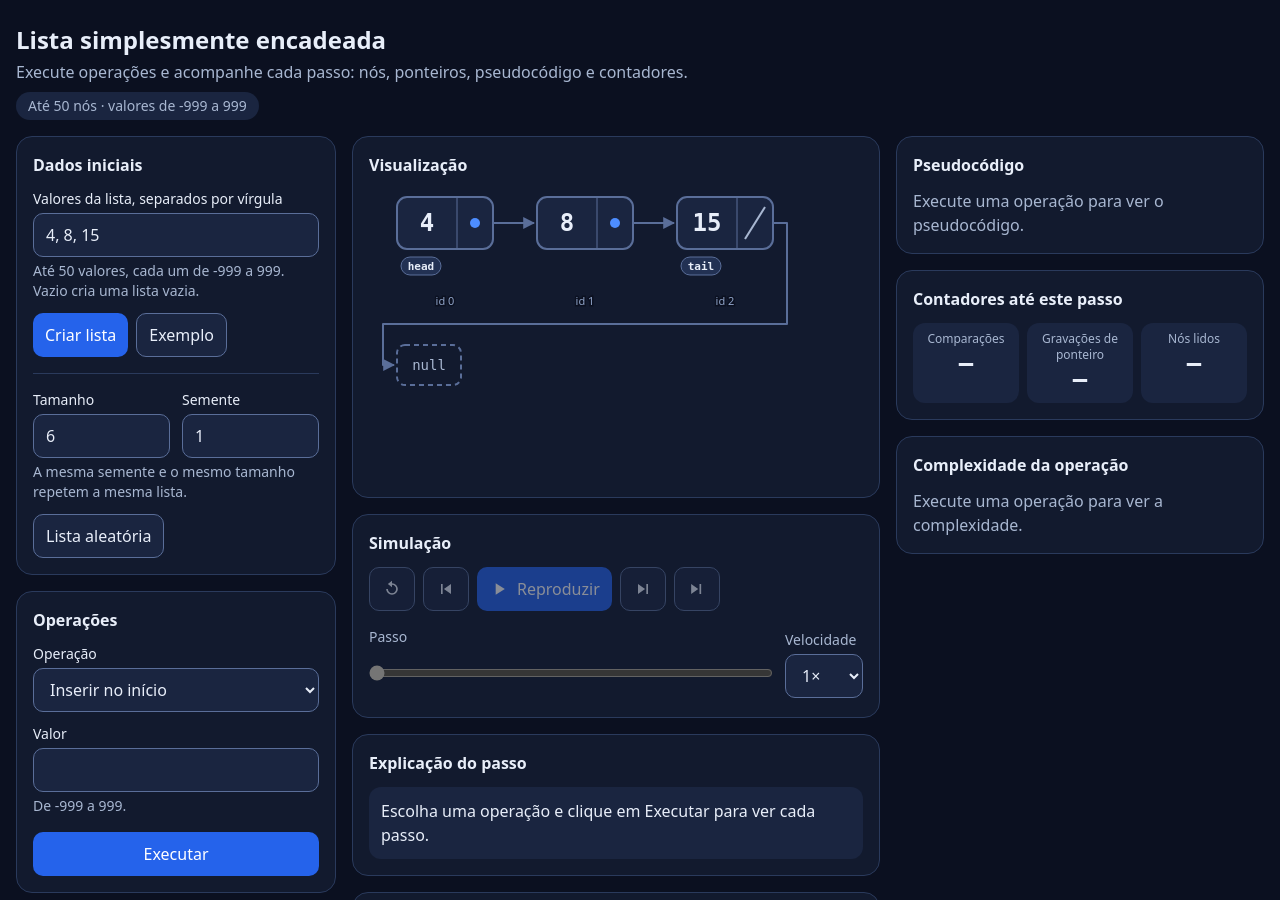
Scenario: tratamento de erros › campo vazio: a Engine pede o valor e o erro aparece no campo
The width and height of the screenshot is (1280, 900).
Click the button "Executar" at coordinates (176, 854), box [33,832,319,876]
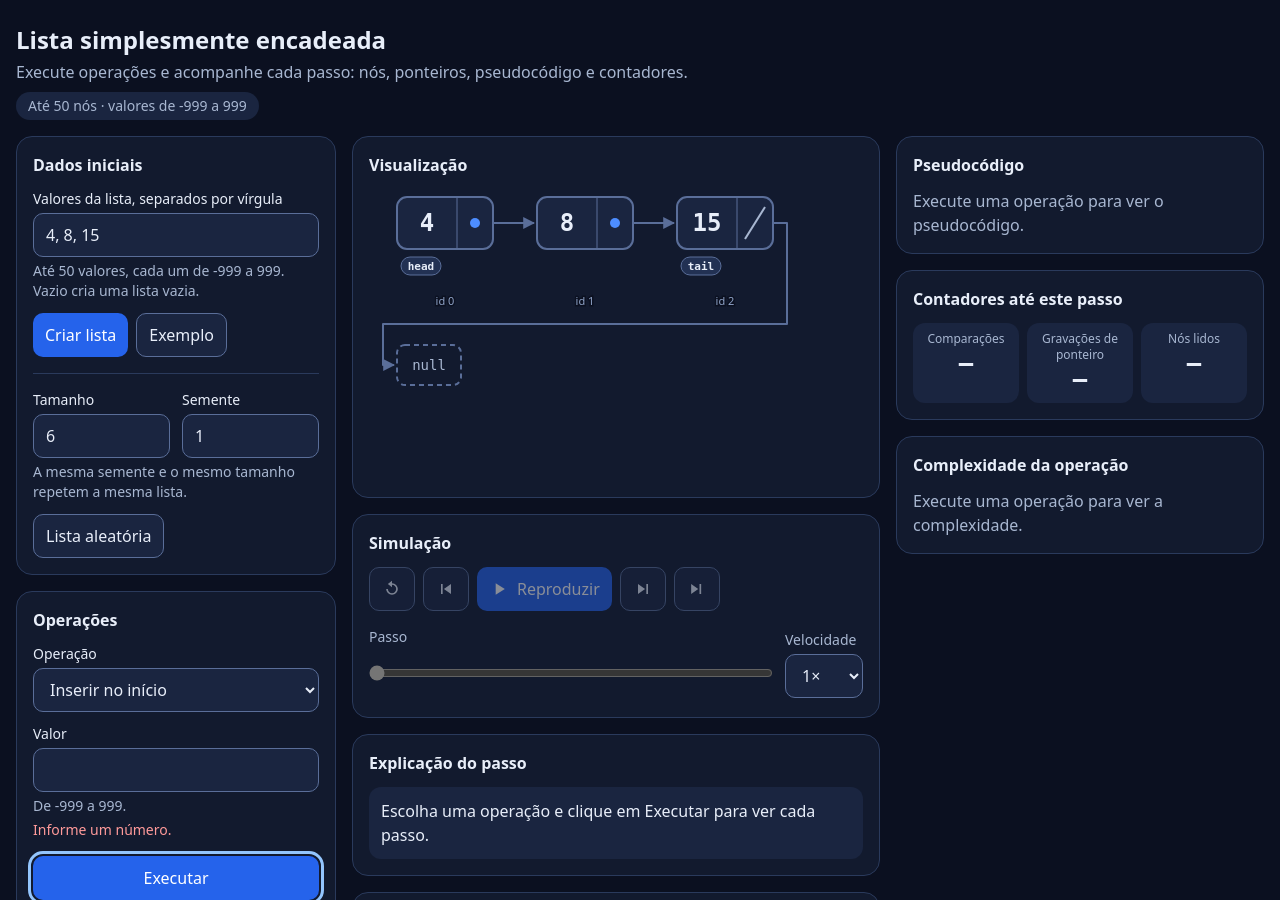
Expected: the text "Informe um número." is shown, [33,820,172,839]
